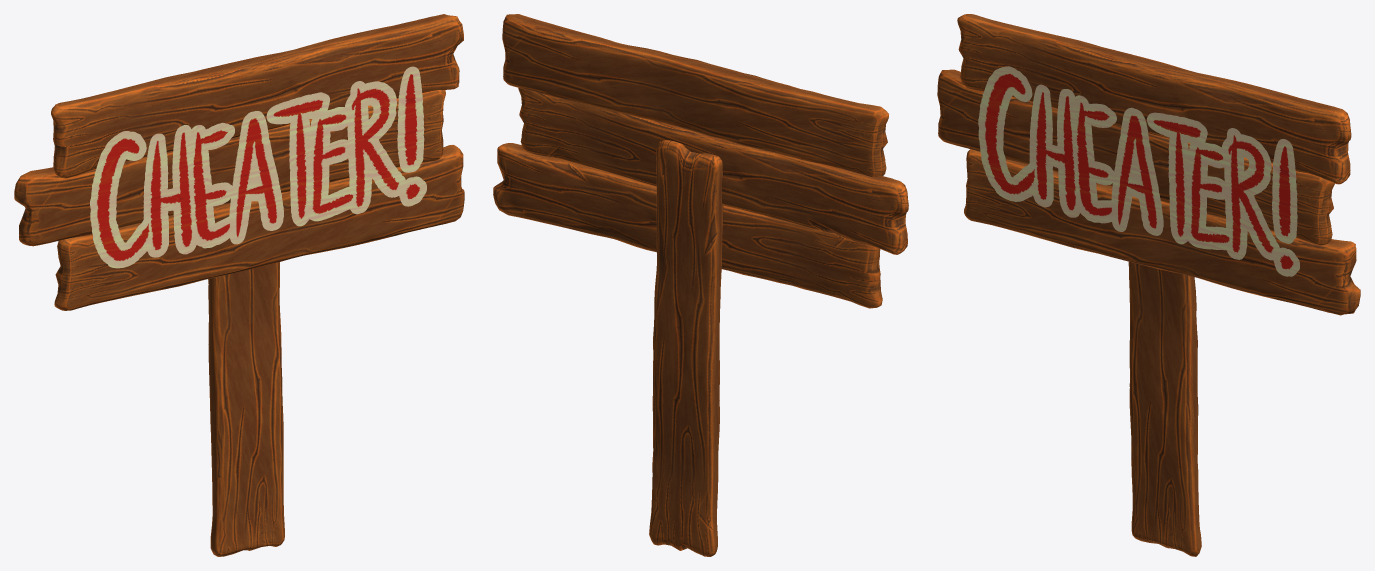
File: SIGN_cheater.fbx
3 renders of one model, left to right at view 1: azimuth 30°, elevation 25°; view 2: azimuth 150°, elevation 25°; view 3: azimuth 330°, elevation 25°, orthographic. The views are drawn at different scales.
Visible parts, largest first — view 1: wooden_sign_cheater, words_cheater; view 2: wooden_sign_cheater; view 3: wooden_sign_cheater, words_cheater.
Part boxes in pixels (bbox=[...]): wooden_sign_cheater: bbox=[14, 14, 464, 556]; words_cheater: bbox=[90, 66, 426, 268]; wooden_sign_cheater: bbox=[493, 14, 908, 556]; wooden_sign_cheater: bbox=[937, 14, 1360, 556]; words_cheater: bbox=[978, 66, 1299, 276].
Size of the model in its own units: 107 by 116 by 11.77.
2 materials, 2 textured.
